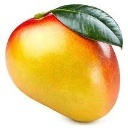mango: (5, 2, 120, 123)
